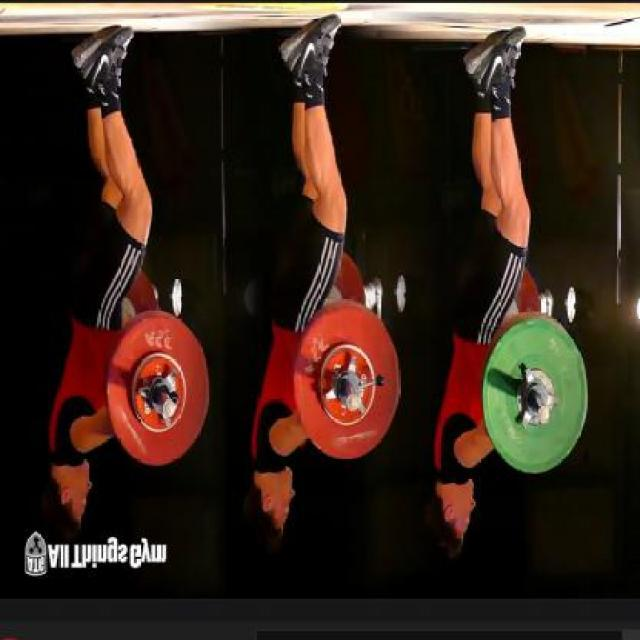Barbell: (154, 389, 182, 423), (340, 387, 362, 421), (533, 400, 555, 431)
